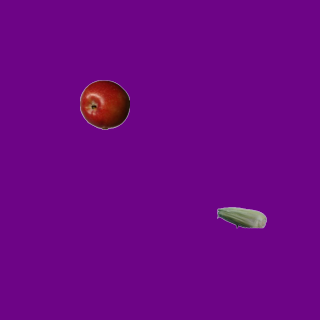Apple Braeburn: (79, 79, 129, 129)
Corn Husk: (216, 192, 266, 242)
